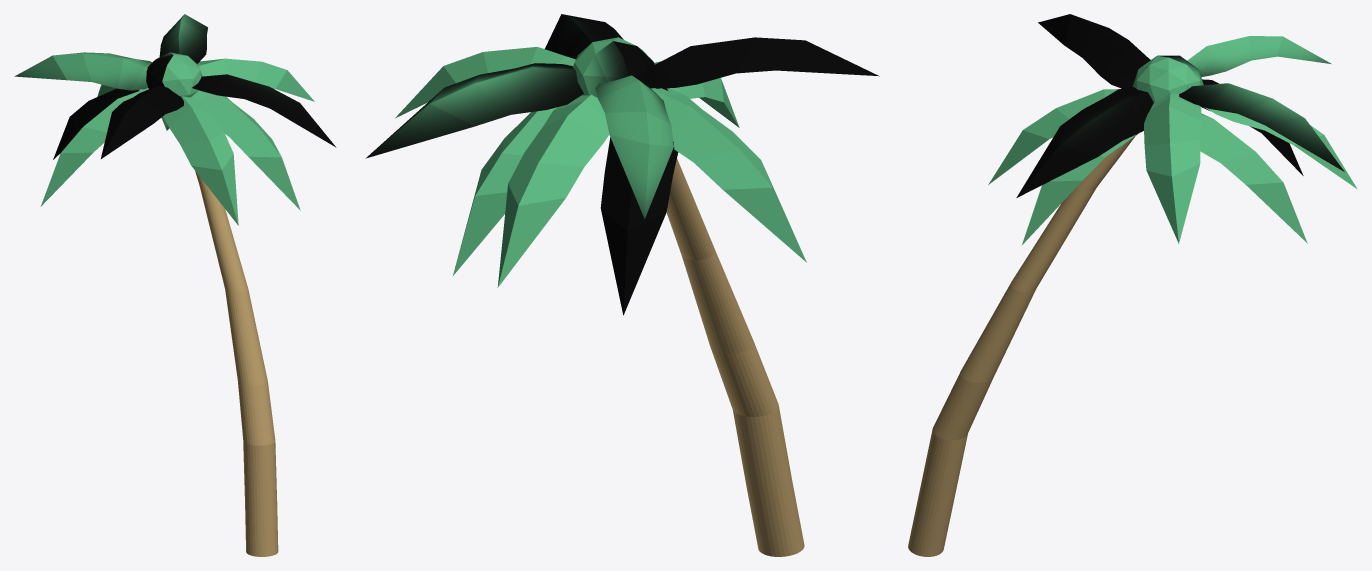
The model's file is palm tree.fbx.
3 renders of one model, left to right at view 1: azimuth 30°, elevation 25°; view 2: azimuth 150°, elevation 25°; view 3: azimuth 270°, elevation 25°, orthographic. The views are drawn at different scales.
Parts seen in each view (by area): view 1: Cylinder, Plane.002, Plane.004, Plane.010, Plane.007, Plane.006, Plane.003, Plane.001, Icosphere, Plane.005, Plane.008; view 2: Cylinder, Plane, Plane.005, Plane.003, Plane.007, Plane.004, Plane.008, Plane.009, Icosphere, Plane.001, Plane.006, Plane.002; view 3: Cylinder, Plane.001, Plane.006, Plane.005, Plane.007, Plane.009, Plane.004, Plane.002, Icosphere, Plane.010, Plane, Plane.008.
Part boxes in pixels (box(x1,y1,x2,y2)): Cylinder: box(195, 171, 278, 556); Plane.002: box(163, 96, 238, 225); Plane.004: box(14, 52, 151, 90); Plane.010: box(192, 90, 300, 210); Plane.007: box(101, 86, 183, 158); Plane.006: box(192, 74, 336, 147); Plane.003: box(40, 88, 148, 206); Plane.001: box(197, 58, 314, 101); Icosphere: box(146, 52, 202, 97); Plane.005: box(159, 14, 207, 63); Plane.008: box(53, 88, 140, 159); Cylinder: box(666, 159, 804, 556); Plane: box(497, 94, 609, 287); Plane.005: box(365, 63, 583, 158); Plane.003: box(651, 88, 806, 262); Plane.007: box(654, 37, 879, 88); Plane.004: box(595, 75, 673, 218); Plane.008: box(600, 88, 678, 315); Plane.009: box(453, 107, 557, 275); Icosphere: box(573, 37, 656, 97); Plane.001: box(395, 47, 575, 118); Plane.006: box(545, 14, 623, 59); Plane.002: box(654, 61, 739, 127); Cylinder: box(908, 133, 1138, 556); Plane.001: box(1144, 93, 1201, 243); Plane.006: box(1016, 86, 1153, 197); Plane.005: box(1179, 83, 1344, 171); Plane.007: box(1038, 14, 1150, 88); Plane.009: box(1200, 113, 1307, 243); Plane.004: box(1187, 36, 1331, 77); Plane.002: box(988, 89, 1119, 184); Icosphere: box(1132, 55, 1203, 106); Plane.010: box(1022, 134, 1135, 244); Plane: box(1204, 107, 1357, 188); Plane.008: box(1201, 79, 1303, 175).
Bounding box in the file's own units: 2050 × 2949 × 2407.
3 materials, 3 textured.
